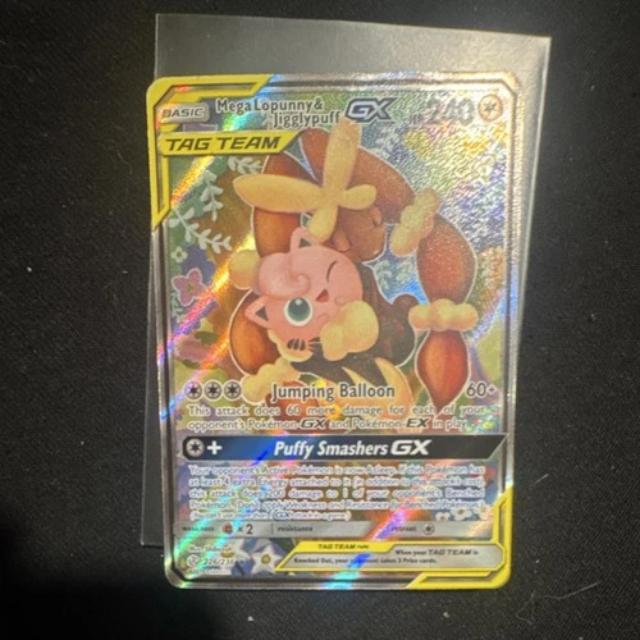Card: (140, 68, 530, 593)
Name: (211, 91, 399, 131)
